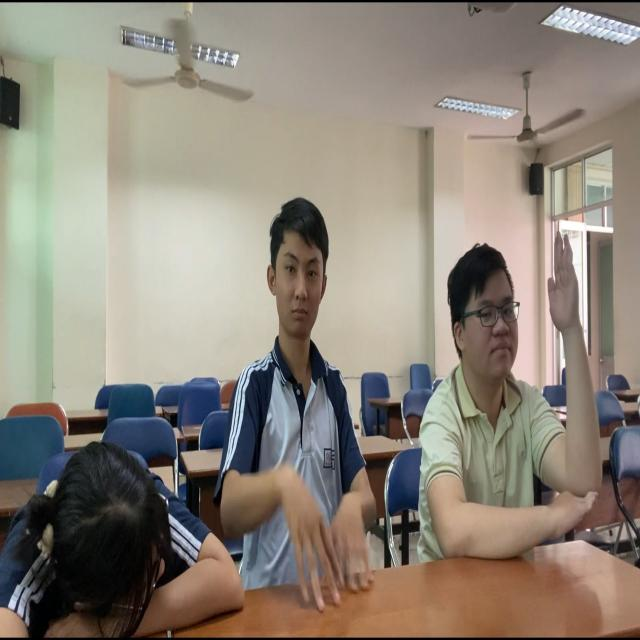raise_hand: (404, 203, 612, 586)
sleep: (4, 435, 229, 640)
